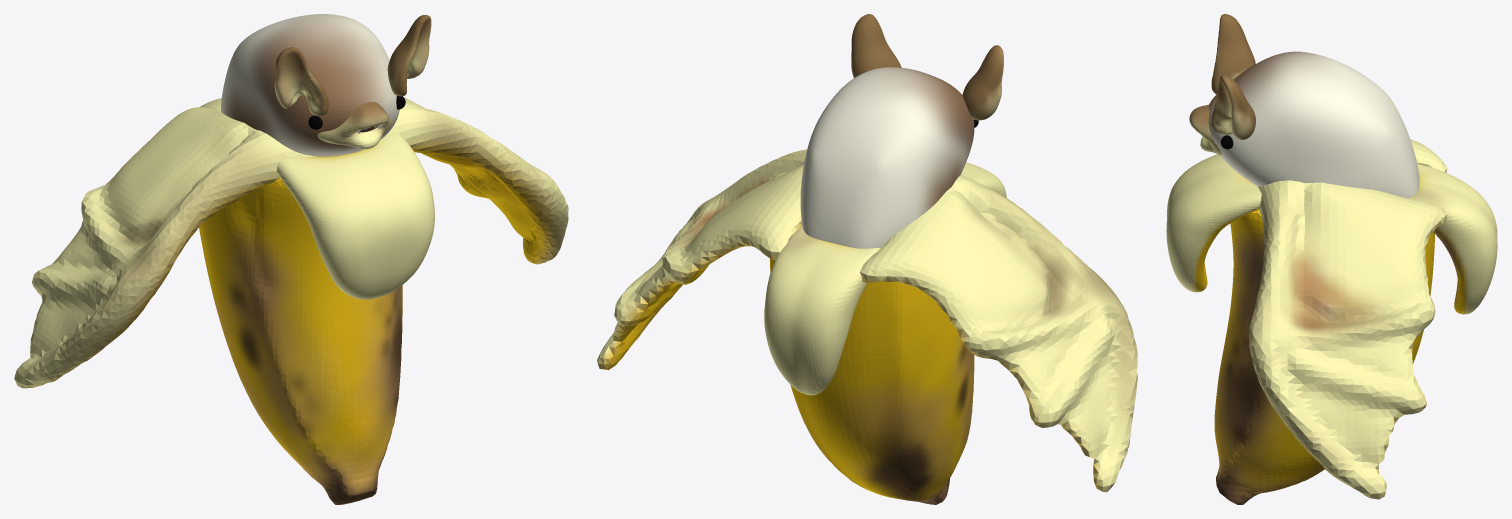
The model's file is BananaBat.glb.
The picture shows the model from 3 angles, left to right: view 1: azimuth 30°, elevation 25°; view 2: azimuth 150°, elevation 25°; view 3: azimuth 270°, elevation 25°; orthographic projection. The views are drawn at different scales.
Visible parts, largest first — view 1: wings, body, front_peel, head, ears, mouth; view 2: wings, body, head, tail, ears, front_peel; view 3: wings, head, body, front_peel, tail, ears, mouth.
Boxes of the visible parts, x1,y1,x2,y2 form: wings: (14, 97, 568, 388); body: (199, 178, 402, 504); front_peel: (277, 132, 434, 299); head: (221, 14, 399, 156); ears: (274, 15, 431, 116); mouth: (317, 102, 392, 149); wings: (597, 149, 1137, 492); body: (770, 226, 974, 504); head: (800, 67, 974, 248); tail: (764, 227, 880, 395); ears: (851, 14, 1003, 120); front_peel: (961, 162, 1006, 197); wings: (1249, 139, 1447, 499); head: (1208, 51, 1419, 198); body: (1214, 209, 1434, 504); front_peel: (1166, 154, 1261, 292); tail: (1409, 164, 1497, 314); ears: (1211, 14, 1255, 139); mouth: (1189, 104, 1221, 155).
Size of the model in its own units: 2.65 by 2.29 by 1.52.
